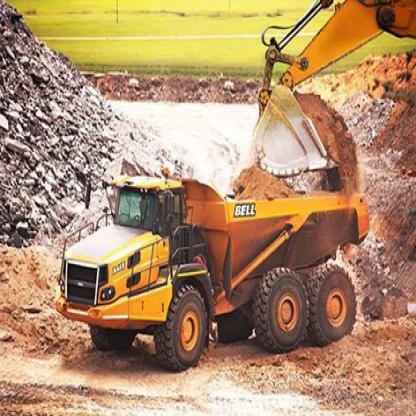dump_truck: (59, 153, 376, 382)
excavator: (247, 6, 415, 185)
